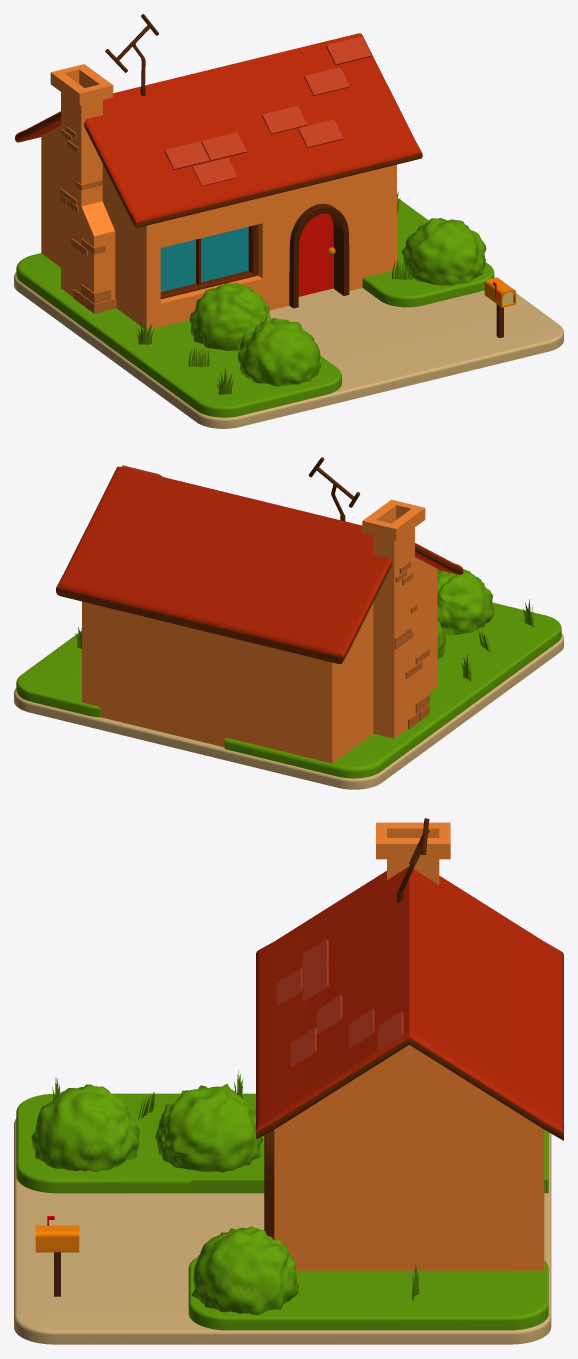
File: house-transformed.glb
3 renders of one model, top to bottom at view 1: azimuth 30°, elevation 25°; view 2: azimuth 150°, elevation 25°; view 3: azimuth 270°, elevation 25°, orthographic. The views are drawn at different scales.
Parts seen in each view (by area): view 1: Roof_7, House_5, Ground_0, Grass_1, chimney_10, RoofBrick_9, Bush.002_18, Bush.001_20, Bush_19, DoorFrame_6, Cube_11, Antenna_8 (+1 smaller); view 2: Roof_7, House_5, Grass_1, chimney_10, Ground_0, Bush.001_20, Cube_11, Antenna_8; view 3: Roof_7, House_5, Ground_0, Grass_1, Bush.002_18, Bush.001_20, Bush_19, RoofBrick_9, chimney_10, Mail_3, DoorFrame_6.
Part boxes in pixels (x1=…): Roof_7: x1=15, y1=33, x2=422, y2=227; House_5: x1=41, y1=125, x2=396, y2=329; Ground_0: x1=14, y1=272, x2=563, y2=428; Grass_1: x1=16, y1=198, x2=494, y2=417; chimney_10: x1=50, y1=64, x2=115, y2=298; RoofBrick_9: x1=164, y1=36, x2=371, y2=186; Bush.002_18: x1=401, y1=218, x2=486, y2=285; Bush.001_20: x1=237, y1=318, x2=320, y2=386; Bush_19: x1=189, y1=283, x2=271, y2=350; DoorFrame_6: x1=289, y1=203, x2=349, y2=308; Cube_11: x1=60, y1=126, x2=116, y2=313; Antenna_8: x1=105, y1=14, x2=158, y2=96; Roof_7: x1=56, y1=466, x2=463, y2=664; House_5: x1=82, y1=557, x2=437, y2=763; Grass_1: x1=16, y1=602, x2=561, y2=778; chimney_10: x1=362, y1=499, x2=427, y2=738; Ground_0: x1=14, y1=633, x2=563, y2=789; Bush.001_20: x1=437, y1=569, x2=494, y2=634; Cube_11: x1=394, y1=561, x2=429, y2=728; Antenna_8: x1=308, y1=457, x2=359, y2=521; Roof_7: x1=256, y1=866, x2=563, y2=1140; House_5: x1=274, y1=1045, x2=544, y2=1270; Ground_0: x1=14, y1=1119, x2=551, y2=1344; Grass_1: x1=16, y1=1093, x2=548, y2=1330; Bush.002_18: x1=191, y1=1226, x2=298, y2=1315; Bush.001_20: x1=31, y1=1084, x2=139, y2=1171; Bush_19: x1=155, y1=1084, x2=262, y2=1172; RoofBrick_9: x1=277, y1=939, x2=403, y2=1066; chimney_10: x1=376, y1=822, x2=450, y2=884; Mail_3: x1=35, y1=1225, x2=79, y2=1252; DoorFrame_6: x1=264, y1=1130, x2=274, y2=1239.
Size of what is drawn, in the model's own units: 6.92 by 5.23 by 7.08.
